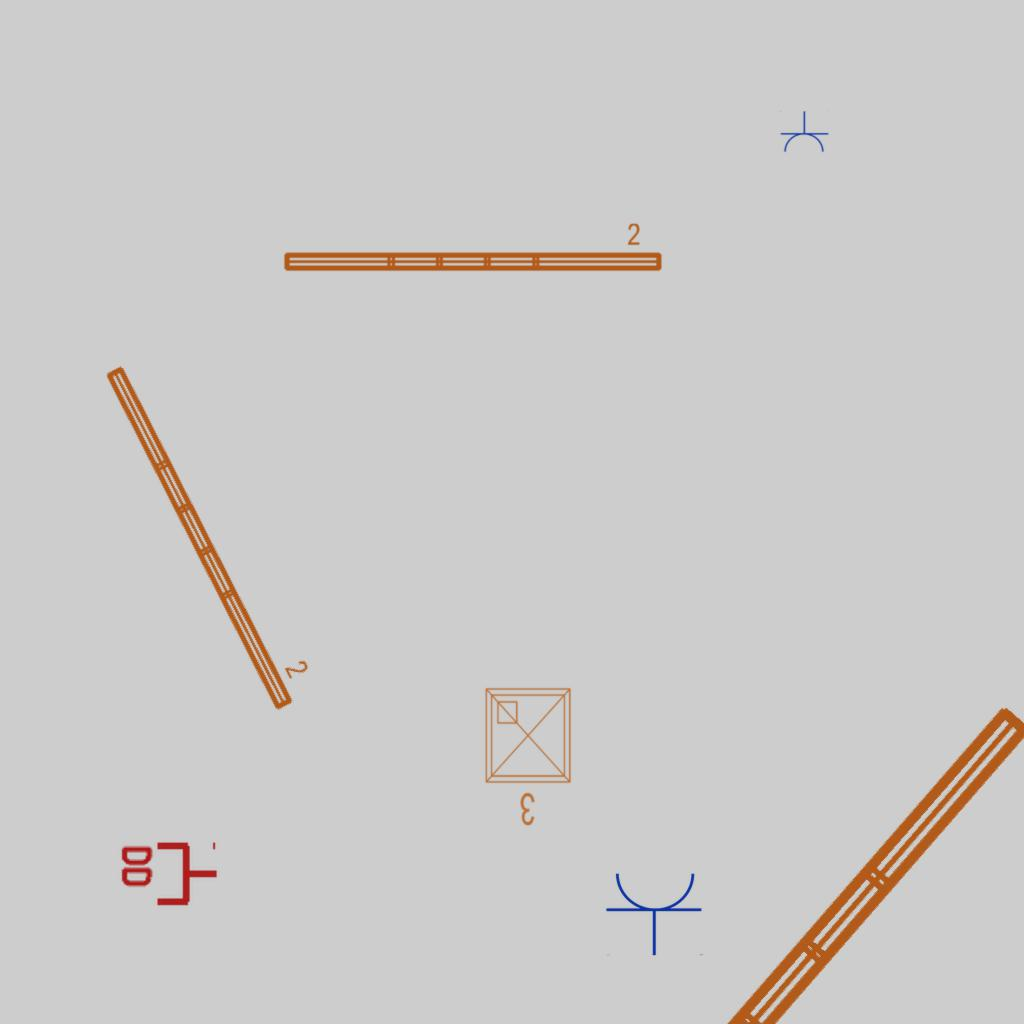Ambulanz_Pendelleuchte_LED: (493, 689, 1024, 1024), (97, 346, 324, 718), (279, 221, 666, 277)
Datenanschluss_zweifach: (117, 841, 220, 910)
Einbaudownlights_LED_Konferenzraeume: (478, 681, 582, 831)
Schukosteckdose_einfach: (605, 869, 705, 956), (779, 111, 829, 154)
